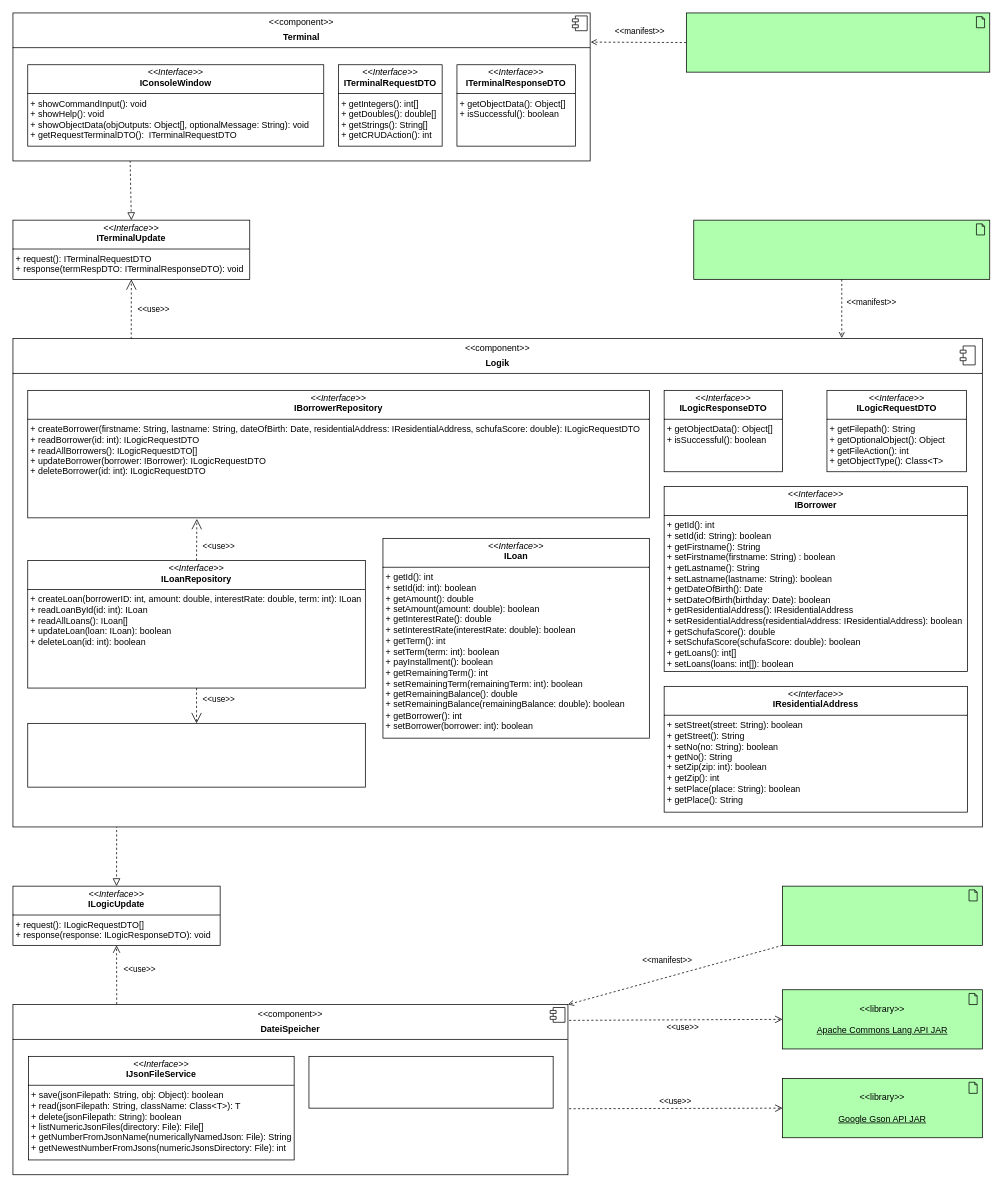
Some shapes in this 1003 by 1188 pixel diagram are drawn without their labels. Each missing label, with the centre of its shape:
"<<Interface>> IFileUpdate + update(): void" belongs at point 430,1082.
"<<Interface>> ISchufaRepository + readSchufaScore(borrower: int): double" belongs at point 196,755.
"<<library>> Data.jar" belongs at point 882,915.
"<<library>> Frontend.jar" belongs at point 838,42.
"<<library>> Logic.jar" belongs at point 841,249.
